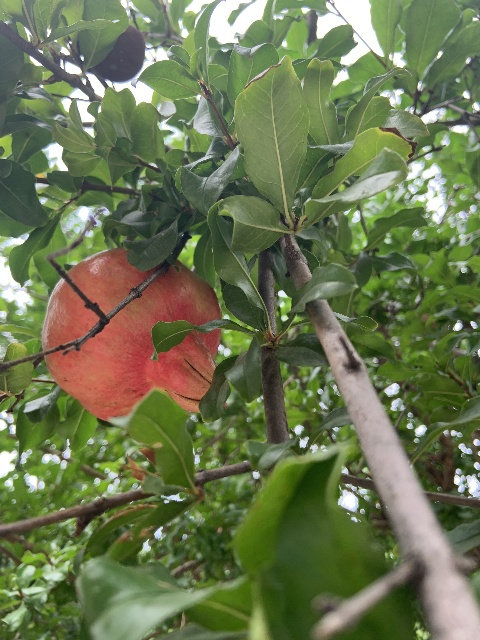ripe: (43, 249, 222, 420)
